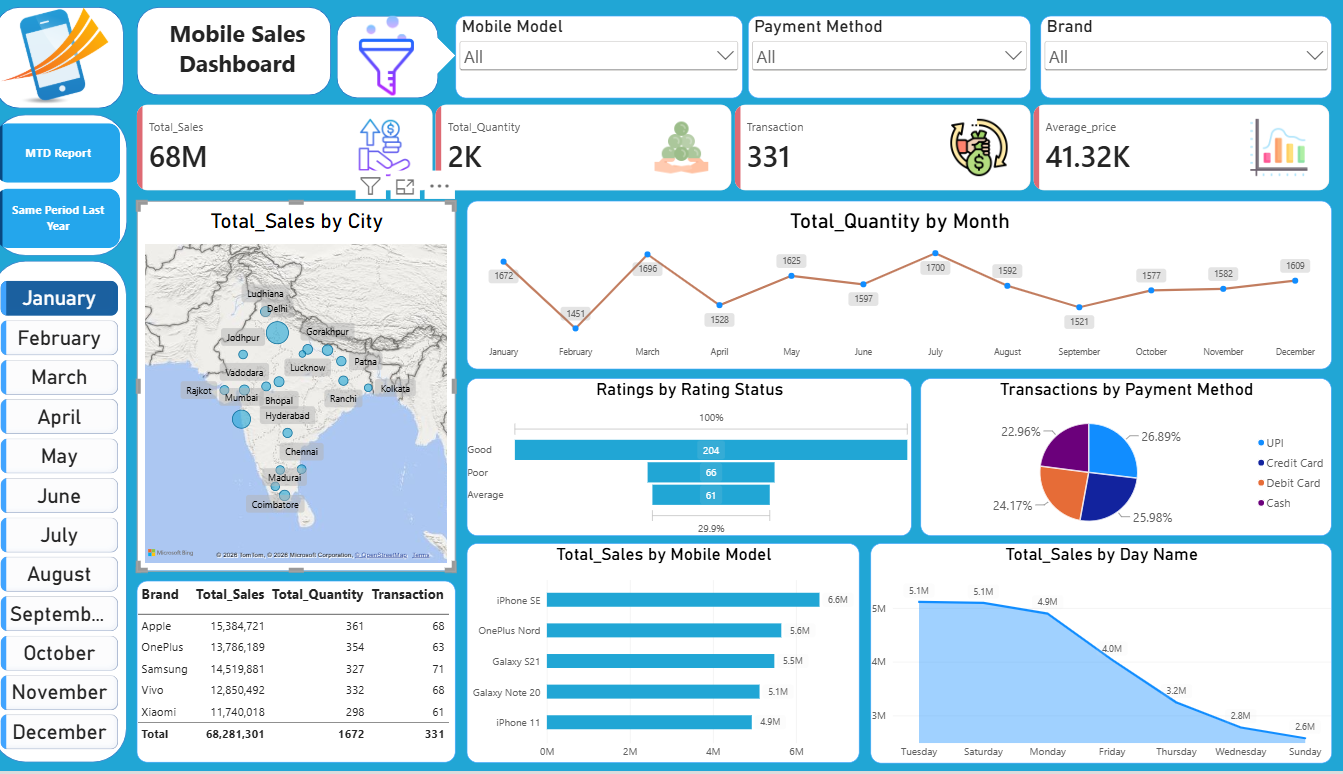

What the dashboard file says about the page in this screenshot:
{"tool":"powerbi","page":{"name":"Dashboard","canvas":[1920,1080],"ordinal":0},"visuals":[{"type":"shape","box":[18.5,164.3,189,197.2],"z":0},{"type":"shape","box":[18.3,368.3,188.3,700],"z":1000},{"type":"advancedSlicerVisual","fields":{"Values":["Custom_Calendar.Date.Variation.Date Hierarchy.Month"]},"box":[30.8,396.4,164.3,657.3],"z":2000},{"type":"cardVisual","fields":{"Data":["Mobile_Sales_Data.Total_Sales","Mobile_Sales_Data.Total_Quantity","Mobile_Sales_Data.transaction","Mobile_Sales_Data.Average_price"]},"box":[221.5,150,1667.4,120.3],"z":3000},{"type":"slicer","fields":{"Values":["Mobile_Sales_Data.Mobile Model"]},"box":[665.5,26.7,400.5,115],"z":4000},{"type":"slicer","fields":{"Values":["Mobile_Sales_Data.Payment Method"]},"box":[1074.2,26.7,394.4,115],"z":5000},{"type":"slicer","fields":{"Values":["Mobile_Sales_Data.Brand"]},"box":[1482.9,26.7,406.7,115],"z":6000},{"type":"shape","box":[501.2,26.7,141.7,115],"z":7000},{"type":"image","box":[497,26.7,145.8,110.9],"z":8000},{"type":"shape","box":[608,53.4,57.5,55.5],"z":9000},{"type":"shape","box":[22.6,14.4,180.7,141.7],"z":10000},{"type":"image","box":[30.8,6.2,150,150],"z":11000},{"type":"shape","box":[221.8,14.4,271.1,123.2],"z":12000},{"type":"textbox","box":[258.8,28.8,207.4,94.5],"z":13000},{"type":"map","title":"Total_Sales by City","fields":{"Category":["Mobile_Sales_Data.City"],"Size":["Mobile_Sales_Data.Total_Sales"]},"box":[221.7,285,445,516.7],"z":14000},{"type":"lineChart","fields":{"Category":["Custom_Calendar.Date.Variation.Date Hierarchy.Month"],"Y":["Mobile_Sales_Data.Total_Quantity"]},"box":[682,284.3,1207,235.5],"z":15000},{"type":"funnel","title":" Ratings by Rating Status","fields":{"Category":["Mobile_Sales_Data.Rating Status"],"Y":["CountNonNull(Mobile_Sales_Data.Customer Ratings)"]},"box":[682,532,620.9,219.8],"z":16000},{"type":"pieChart","title":"Transactions by Payment Method","fields":{"Category":["Mobile_Sales_Data.Payment Method"],"Y":["Mobile_Sales_Data.transaction"]},"box":[1315.1,532,573.8,219.8],"z":17000},{"type":"clusteredBarChart","fields":{"Category":["Mobile_Sales_Data.Mobile Model"],"Y":["Mobile_Sales_Data.Total_Sales"]},"box":[681.7,761.7,548.3,306.7],"z":18000},{"type":"areaChart","fields":{"Category":["Custom_Calendar.Day Name"],"Y":["Mobile_Sales_Data.Total_Sales"]},"box":[1245.4,762.2,643.6,307],"z":19000},{"type":"tableEx","fields":{"Values":["Mobile_Sales_Data.Brand","Mobile_Sales_Data.Total_Sales","Mobile_Sales_Data.Total_Quantity","Mobile_Sales_Data.transaction"]},"box":[221.7,815,445,253.3],"z":20000},{"type":"pageNavigator","box":[26,176,172,174],"z":21000}]}

Visuals, with their boxes in screenshot pixels (x1, y1, x2, y2), scaled from the page's 1920x1080 canvas onto the 1343x774 screenshot:
shape: [13, 118, 145, 259]
shape: [13, 264, 145, 766]
advancedSlicerVisual - Custom_Calendar.Date.Variation.Date Hierarchy.Month: [22, 284, 136, 755]
cardVisual - Mobile_Sales_Data.Total_Sales x Mobile_Sales_Data.Total_Quantity: [155, 108, 1321, 194]
slicer - Mobile_Sales_Data.Mobile Model: [466, 19, 746, 102]
slicer - Mobile_Sales_Data.Payment Method: [751, 19, 1027, 102]
slicer - Mobile_Sales_Data.Brand: [1037, 19, 1322, 102]
shape: [351, 19, 450, 102]
image: [348, 19, 450, 99]
shape: [425, 38, 466, 78]
shape: [16, 10, 142, 112]
image: [22, 4, 126, 112]
shape: [155, 10, 345, 99]
textbox: [181, 21, 326, 88]
"Total_Sales by City" map: [155, 204, 466, 575]
lineChart - Custom_Calendar.Date.Variation.Date Hierarchy.Month x Mobile_Sales_Data.Total_Quantity: [477, 204, 1321, 373]
" Ratings by Rating Status" funnel: [477, 381, 911, 539]
"Transactions by Payment Method" pieChart: [920, 381, 1321, 539]
clusteredBarChart - Mobile_Sales_Data.Mobile Model x Mobile_Sales_Data.Total_Sales: [477, 546, 860, 766]
areaChart - Custom_Calendar.Day Name x Mobile_Sales_Data.Total_Sales: [871, 546, 1321, 766]
tableEx - Mobile_Sales_Data.Brand x Mobile_Sales_Data.Total_Sales: [155, 584, 466, 766]
pageNavigator: [18, 126, 138, 251]
